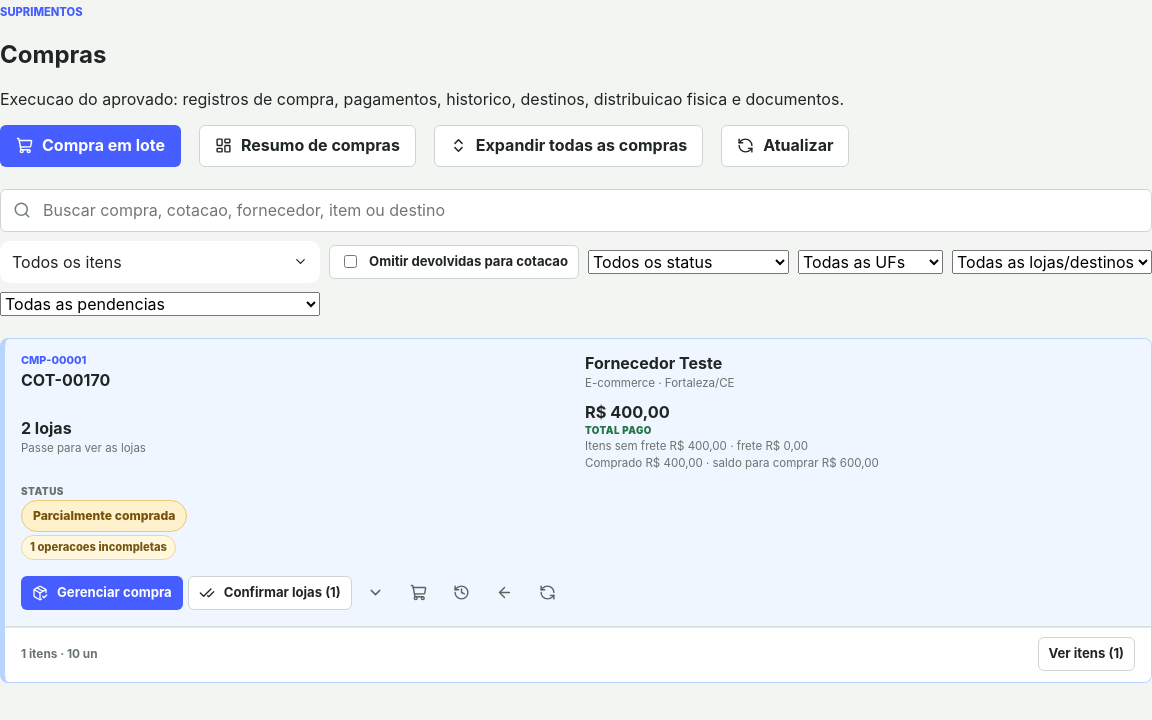
Scenario: SupplyPurchasesPage V2 › resume compras por indicadores, lojas e prospectores/UF
Expected: the text "CMP-00001" is shown, [21, 353, 86, 367]
What coordinates should you click on to do the following:
click the button "Resumo de compras"
I would click on:
 (307, 146)
Its box is [199, 125, 416, 167].
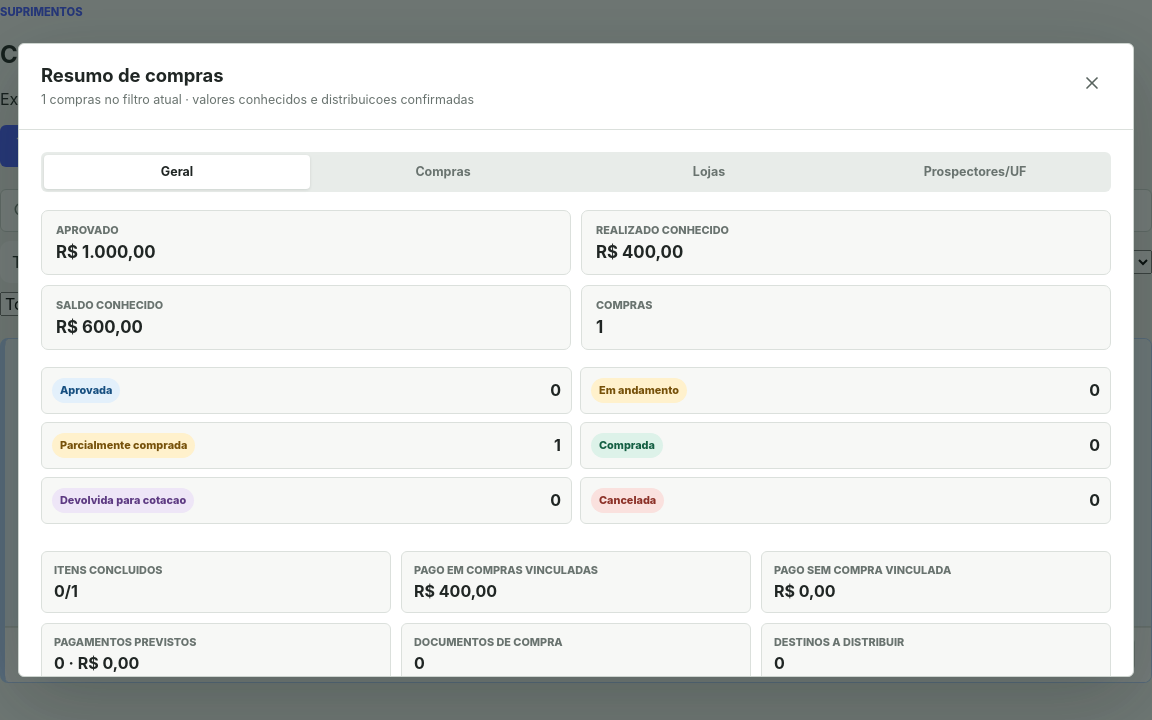
Now the text "Realizado conhecido" is shown, box [596, 223, 729, 237]
Now the text "Pago em compras vinculadas" is shown, box [414, 563, 598, 577]
What coordinates should you click on to do the following:
click the button "Lojas"
I would click on:
 (709, 172)
Its box is [576, 155, 842, 189].
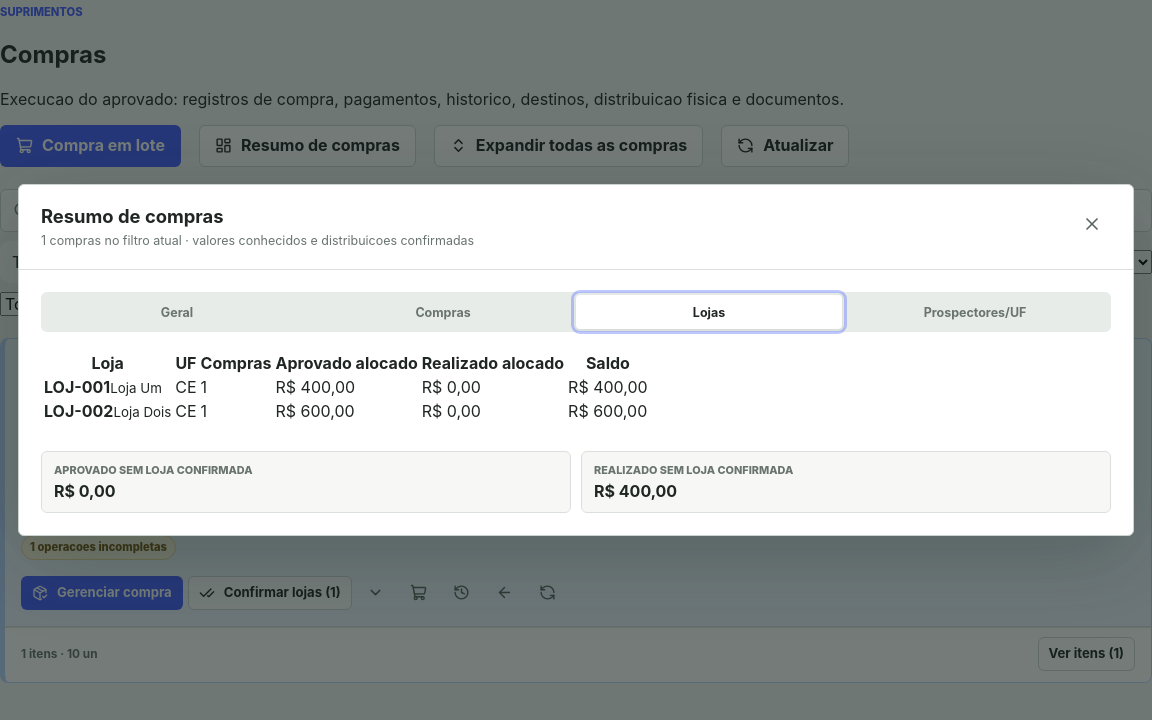
Now the text "LOJ-001" is shown, box [44, 377, 110, 397]
Now the text "LOJ-002" is shown, box [44, 401, 113, 421]
What coordinates should you click on to do the following:
click the button "Prospectores/UF"
I would click on:
 (975, 312)
Its box is [842, 295, 1108, 329].
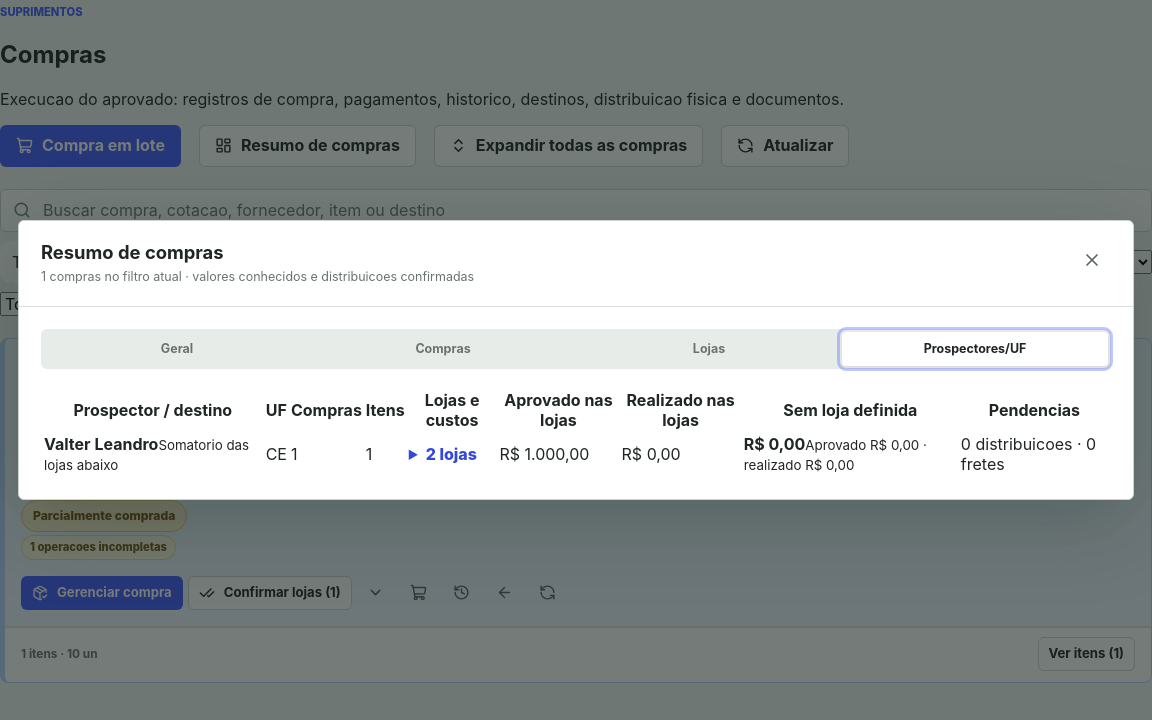
Now the text "CE" is shown, box [265, 433, 288, 475]
Now the text "Valter Leandro" is shown, box [44, 434, 158, 454]
